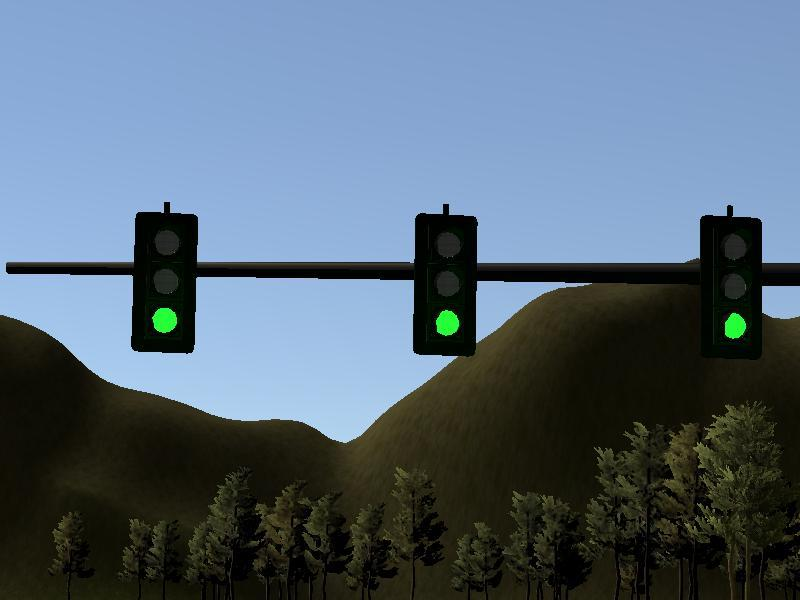Green: (135, 211, 194, 349), (703, 216, 759, 354), (417, 217, 473, 354)
